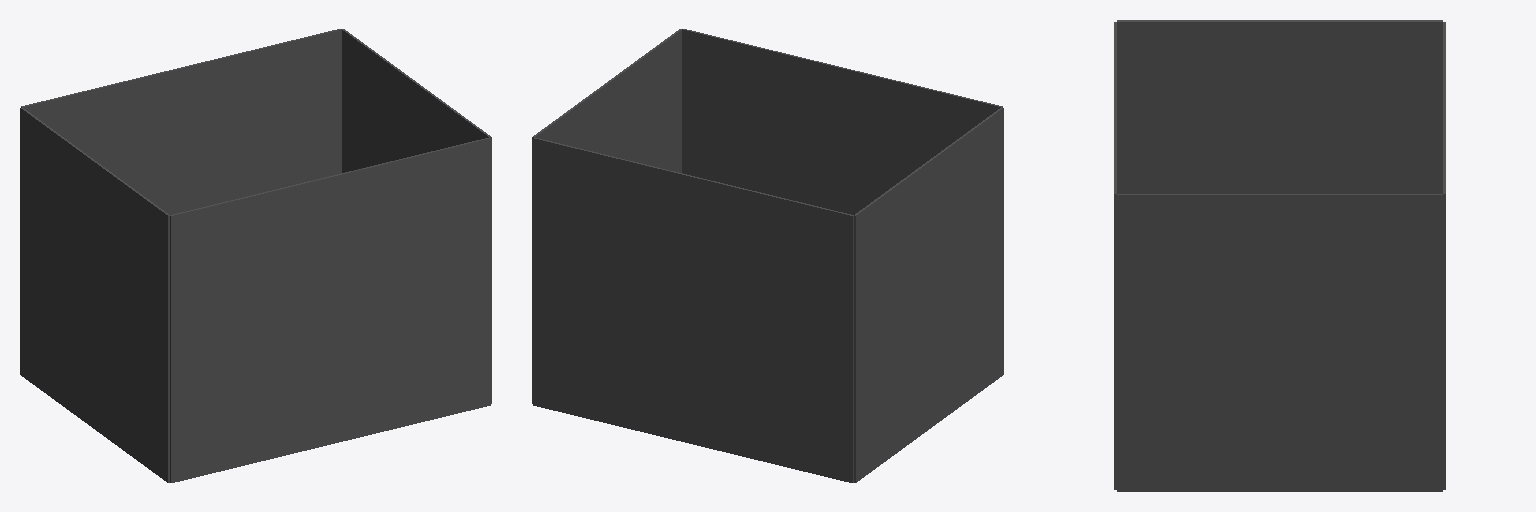
The robot description file, URDF, robot "walls":
<?xml version="1.0"?>
<robot name="walls">
  <link name="front_wall">
  <contact>
      <lateral_friction value="1"/>
  </contact>
    <inertial>
      <origin rpy="0 0 0" xyz="0 0 0"/>
       <mass value=".0"/>
       <inertia ixx="0" ixy="0" ixz="0" iyy="0" iyz="0" izz="0"/>
    </inertial>
    <visual>
      <origin xyz="0 0 0.6096" rpy="0 0 0" />
      <geometry>
        <box size="0.01 1.2192 1.2192" />
      </geometry>
      <material name="desert sand">
        <color rgba="0.375 0.375 0.375 0.25" />
      </material>
    </visual>
    <collision>
      <origin xyz="0 0 0.6096" rpy="0 0 0" />
      <geometry>
        <box size="0.01 1.2192 1.2192" />
      </geometry>
    </collision>
  </link>

  <link name="right_wall">
  <contact>
      <lateral_friction value="1"/>
  </contact>
    <inertial>
      <origin rpy="0 0 0" xyz="0 0 0"/>
       <mass value=".0"/>
       <inertia ixx="0" ixy="0" ixz="0" iyy="0" iyz="0" izz="0"/>
    </inertial>
    <visual>
      <origin xyz="0.0 0.0 0.6096" rpy="0 0 0" />
      <geometry>
        <box size="1.524 0.01 1.2192" />
      </geometry>
      <material name="desert sand" />
    </visual>
    <collision>
      <origin xyz="0.0 0.0 0.6096" rpy="0 0 0" />
      <geometry>
        <box size="1.524 0.01 1.2192" />
      </geometry>
    </collision>
  </link>
  
  <link name="left_wall">
  <contact>
      <lateral_friction value="1"/>
  </contact>
    <inertial>
      <origin rpy="0 0 0" xyz="0 0 0"/>
       <mass value=".0"/>
       <inertia ixx="0" ixy="0" ixz="0" iyy="0" iyz="0" izz="0"/>
    </inertial>
    <visual>
      <origin xyz="0.0 0.0 0.6096" rpy="0 0 0" />
      <geometry>
        <box size="1.524 0.01 1.2192" />
      </geometry>
      <material name="desert sand" />
    </visual>
    <collision>
      <origin xyz="0.0 0.0 0.6096" rpy="0 0 0" />
      <geometry>
        <box size="1.524 0.01 1.2192" />
      </geometry>
    </collision>
  </link>
  <link name="back_wall">
  <contact>
      <lateral_friction value="1"/>
  </contact>
    <inertial>
      <origin rpy="0 0 0" xyz="0 0 0"/>
       <mass value=".0"/>
       <inertia ixx="0" ixy="0" ixz="0" iyy="0" iyz="0" izz="0"/>
    </inertial>
    <visual>
      <origin xyz="0 0 0.6096" rpy="0 0 0" />
      <geometry>
        <box size="0.01 1.2192 1.2192" />
      </geometry>
      <material name="desert sand" />
    </visual>
    <collision>
      <origin xyz="0 0 0.6096" rpy="0 0 0" />
      <geometry>
        <box size="0.01 1.2192 1.2192" />
      </geometry>
    </collision>
  </link>
  
  <!-- Everything is in reference to the first vertical support. It is infront and left of the robot (from the robot perspective). -->
  <joint name="right_front" type="fixed">
    <origin xyz="-0.767 -0.6146 0.0" rpy="0 0 0" /> 
    <parent link="front_wall" />
    <child link="right_wall" />
  </joint>

  <joint name="back_front" type="fixed">
    <origin xyz="-1.534 0.0 0.0" rpy="0 0 0" /> 
    <parent link="front_wall" />
    <child link="back_wall" />
  </joint>
  
  <joint name="left_front" type="fixed">
    <origin xyz="-0.767 0.6146 0.0" rpy="0 0 0" /> 
    <parent link="front_wall" />
    <child link="left_wall" />
  </joint>
</robot>

--- What the picture shows (computed from the rendered views, not written in the file) ---
3 views of the same robot in one strip: view 1: azimuth 30°, elevation 25°; view 2: azimuth 150°, elevation 25°; view 3: azimuth 270°, elevation 25° (orthographic).
Robot: walls — 4 links, 3 joints (3 fixed); root link front_wall; default pose: all joints at 0.
Links seen in each view (by area): view 1: right_wall, back_wall, left_wall, front_wall; view 2: left_wall, back_wall, right_wall, front_wall; view 3: front_wall, back_wall, right_wall, left_wall.
Link boxes in pixels (<box>): right_wall: <box>170,137,490,482</box>; back_wall: <box>20,107,169,482</box>; left_wall: <box>21,29,341,214</box>; front_wall: <box>342,29,491,403</box>; left_wall: <box>533,137,853,482</box>; back_wall: <box>854,107,1003,482</box>; right_wall: <box>682,29,1002,214</box>; front_wall: <box>532,29,681,403</box>; front_wall: <box>1117,194,1442,491</box>; back_wall: <box>1117,20,1442,193</box>; right_wall: <box>1114,22,1116,489</box>; left_wall: <box>1443,22,1445,489</box>.
Bounding box of the posed robot: 1.54 × 1.24 × 1.22 m (x, y, z).
Geometry: primitives only (box / cylinder / sphere), no mesh files.